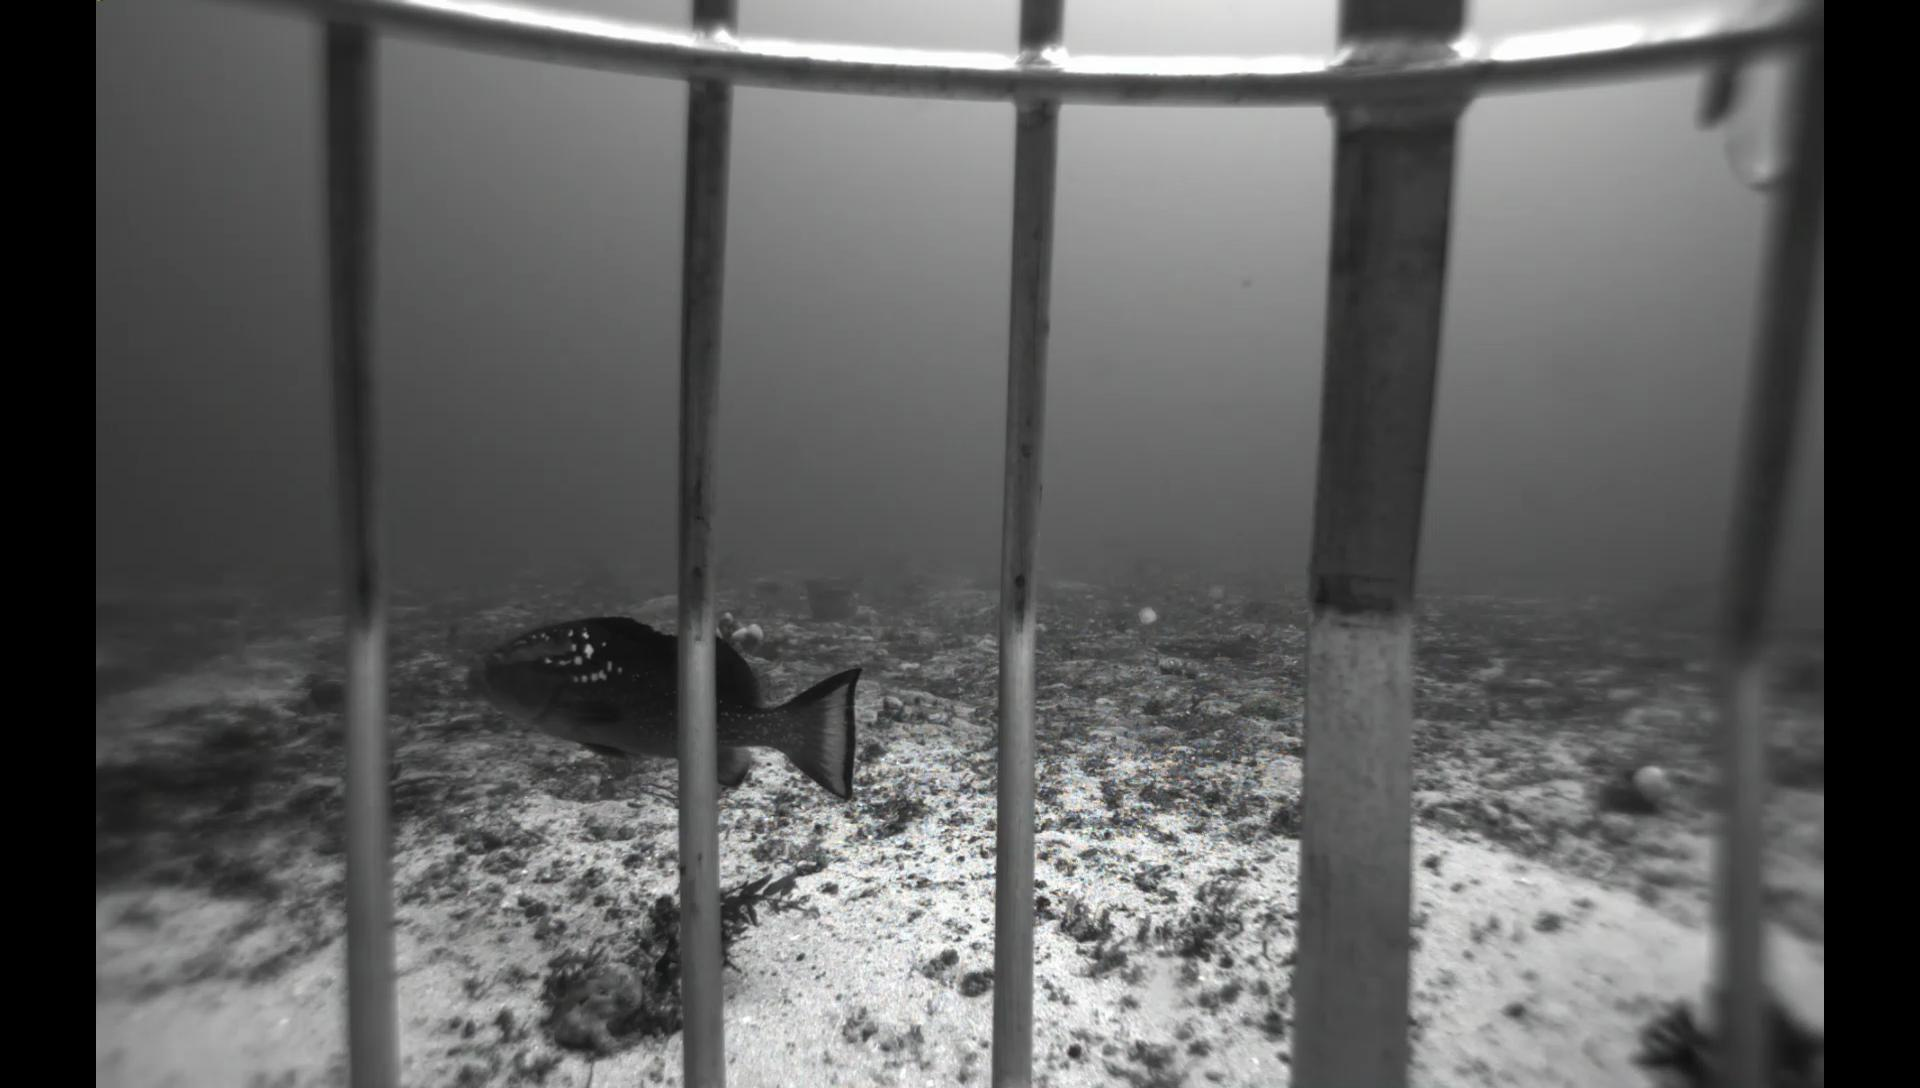CHAETODONOCELLATUS-170260307: (1189, 578, 1236, 607), (1124, 601, 1164, 633)
EPINEPHELUSMORIO-170021211: (458, 607, 873, 812)
PRISTIGENYSALTA-170050401: (295, 677, 345, 719)
